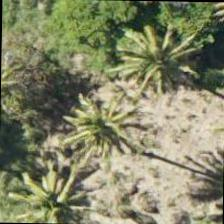Kelapa_Sawit: (95, 18, 187, 110), (42, 82, 134, 174), (0, 154, 83, 223)
